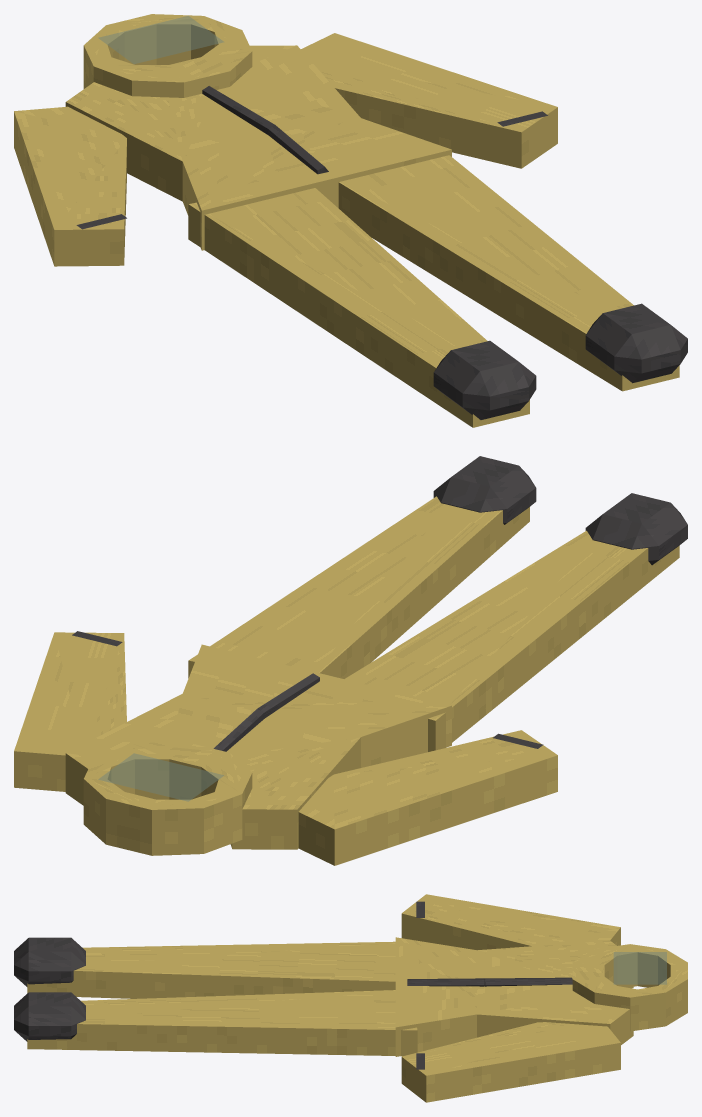
File: hazmat_suit.glb
3 renders of one model, top to bottom at view 1: azimuth 30°, elevation 25°; view 2: azimuth 150°, elevation 25°; view 3: azimuth 270°, elevation 25°, orthographic. The views are drawn at different scales.
Parts seen in each view (by area): view 1: block_integral trouser leg (×2), block_sleeve (×2), block_suit torso, block_attached hood, block_sealed cuff or boot (×2), block_sealed hood window, block_sealed front zipper 0, block_sealed front zipper 1; view 2: block_integral trouser leg (×2), block_sleeve (×2), block_suit torso, block_attached hood, block_sealed cuff or boot (×2), block_sealed hood window, block_sealed front zipper 1, block_sealed front zipper 0; view 3: block_integral trouser leg (×2), block_sleeve (×2), block_suit torso, block_attached hood, block_sealed cuff or boot (×2), block_sealed hood window, block_sealed front zipper 0, block_sealed front zipper 1.
Part boxes in pixels (x1=…): block_integral trouser leg (×2): x1=188, y1=155, x2=679, y2=427; block_sleeve (×2): x1=14, y1=33, x2=557, y2=266; block_suit torso: x1=65, y1=45, x2=451, y2=250; block_attached hood: x1=83, y1=14, x2=252, y2=97; block_sealed cuff or boot (×2): x1=433, y1=303, x2=687, y2=419; block_sealed hood window: x1=98, y1=16, x2=223, y2=63; block_sealed front zipper 0: x1=202, y1=86, x2=274, y2=134; block_sealed front zipper 1: x1=268, y1=125, x2=328, y2=174; block_integral trouser leg (×2): x1=188, y1=496, x2=679, y2=751; block_sleeve (×2): x1=14, y1=632, x2=557, y2=865; block_suit torso: x1=65, y1=644, x2=451, y2=849; block_attached hood: x1=83, y1=741, x2=252, y2=855; block_sealed cuff or boot (×2): x1=433, y1=456, x2=687, y2=565; block_sealed hood window: x1=98, y1=753, x2=223, y2=801; block_sealed front zipper 1: x1=258, y1=673, x2=319, y2=718; block_sealed front zipper 0: x1=213, y1=708, x2=264, y2=751; block_integral trouser leg (×2): x1=27, y1=941, x2=417, y2=1056; block_sleeve (×2): x1=401, y1=894, x2=620, y2=1102; block_suit torso: x1=395, y1=937, x2=633, y2=1056; block_attached hood: x1=572, y1=944, x2=687, y2=1031; block_sealed cuff or boot (×2): x1=14, y1=937, x2=85, y2=1041; block_sealed hood window: x1=613, y1=952, x2=666, y2=984; block_sealed front zipper 0: x1=485, y1=977, x2=572, y2=986; block_sealed front zipper 1: x1=407, y1=978, x2=484, y2=986.
Bounding box in the file's own units: 0.8881 × 0.0993 × 1.39.
Materials: 2 (2 with a texture image).
